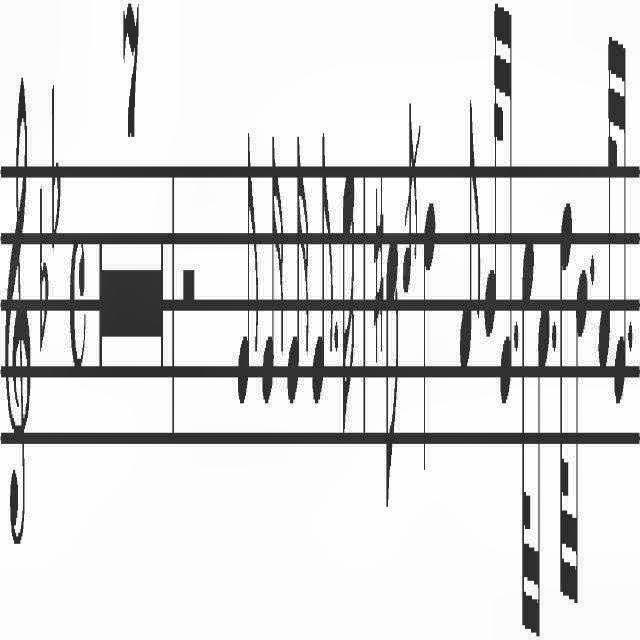Bass-clef: (0, 0, 34, 628)
Bemol: (34, 136, 52, 366), (46, 59, 64, 264)
Diez: (372, 169, 384, 363)
Eighth-note: (454, 75, 482, 417), (234, 84, 258, 450), (312, 108, 334, 450), (385, 221, 399, 521)
Quarter-note: (420, 169, 438, 479)
Sixteenth-note: (259, 97, 285, 427), (286, 100, 310, 432), (572, 254, 588, 618), (614, 12, 628, 428), (342, 154, 358, 486), (502, 0, 514, 412), (535, 292, 549, 640)
